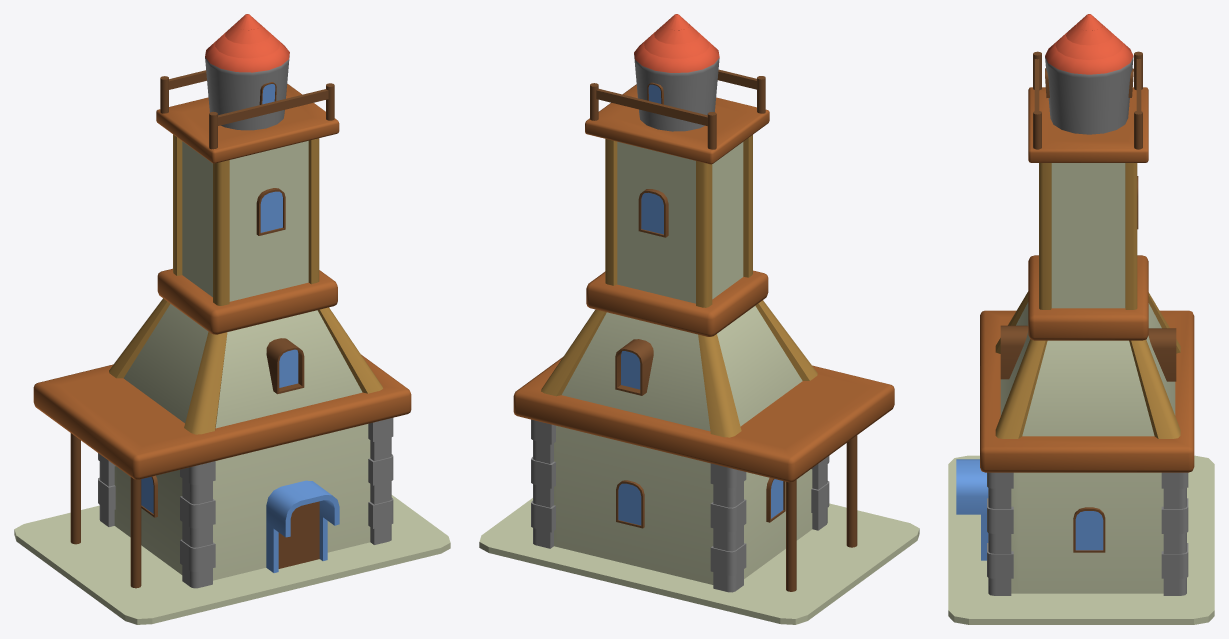
The model's file is town hall level 1.fbx.
3 views of the same model, side by side, from view 1: azimuth 30°, elevation 25°; view 2: azimuth 150°, elevation 25°; view 3: azimuth 270°, elevation 25° (orthographic). The views are drawn at different scales.
Parts seen in each view (by area): view 1: Cube.049; view 2: Cube.049; view 3: Cube.049.
Boxes of the visible parts, x1,y1,x2,y2 form: Cube.049: [14, 14, 450, 624]; Cube.049: [479, 14, 919, 624]; Cube.049: [948, 14, 1214, 624].
Bounding box in the file's own units: 9894 × 15187 × 6817.
